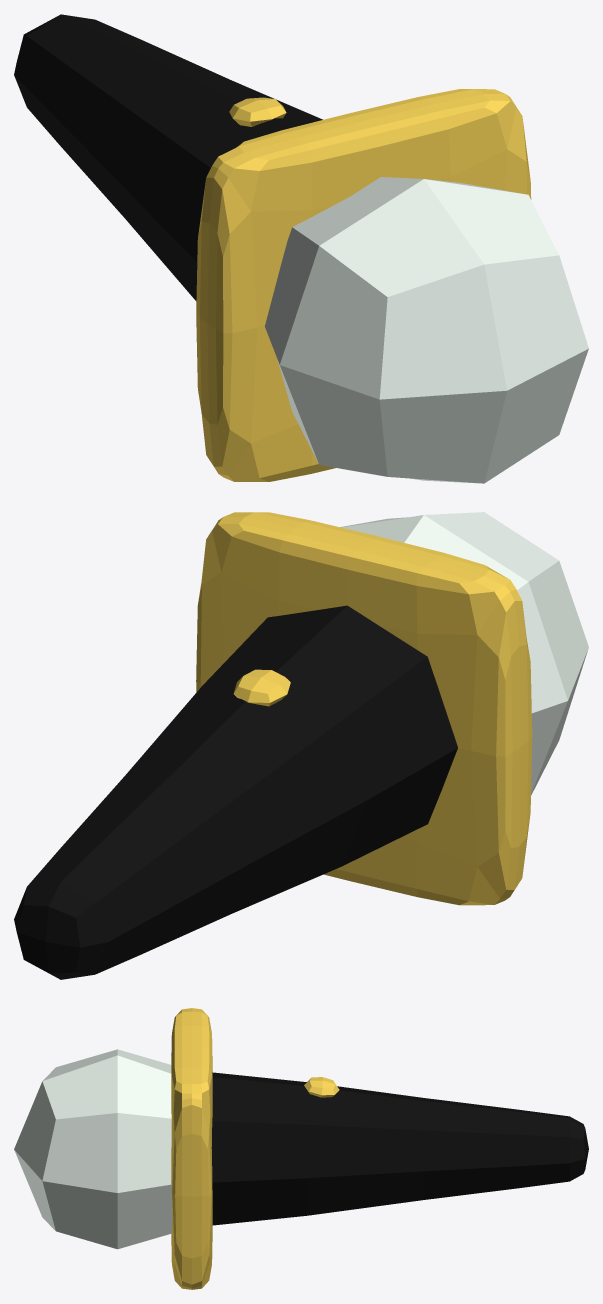
File: lamp.fbx
The picture shows the model from 3 angles, top to bottom: view 1: azimuth 30°, elevation 25°; view 2: azimuth 150°, elevation 25°; view 3: azimuth 270°, elevation 25°; orthographic projection. The views are drawn at different scales.
Visible parts, largest first — view 1: LampLight.002, LampCube, LampBody, Button; view 2: LampBody, LampCube, LampLight.002, Button; view 3: LampBody, LampLight.002, LampCube, Button.
Part boxes in pixels (x1,y1,x2,y2): LampLight.002: [265, 177, 588, 483]; LampCube: [196, 89, 531, 481]; LampBody: [14, 14, 322, 300]; Button: [229, 97, 286, 126]; LampBody: [14, 605, 457, 979]; LampCube: [196, 512, 532, 905]; LampLight.002: [340, 512, 588, 795]; Button: [233, 669, 290, 706]; LampBody: [211, 1072, 588, 1225]; LampLight.002: [14, 1049, 172, 1249]; LampCube: [171, 1008, 212, 1289]; Button: [304, 1077, 339, 1097].
Size of the model in its own units: 37.05 by 37.19 by 94.51.
